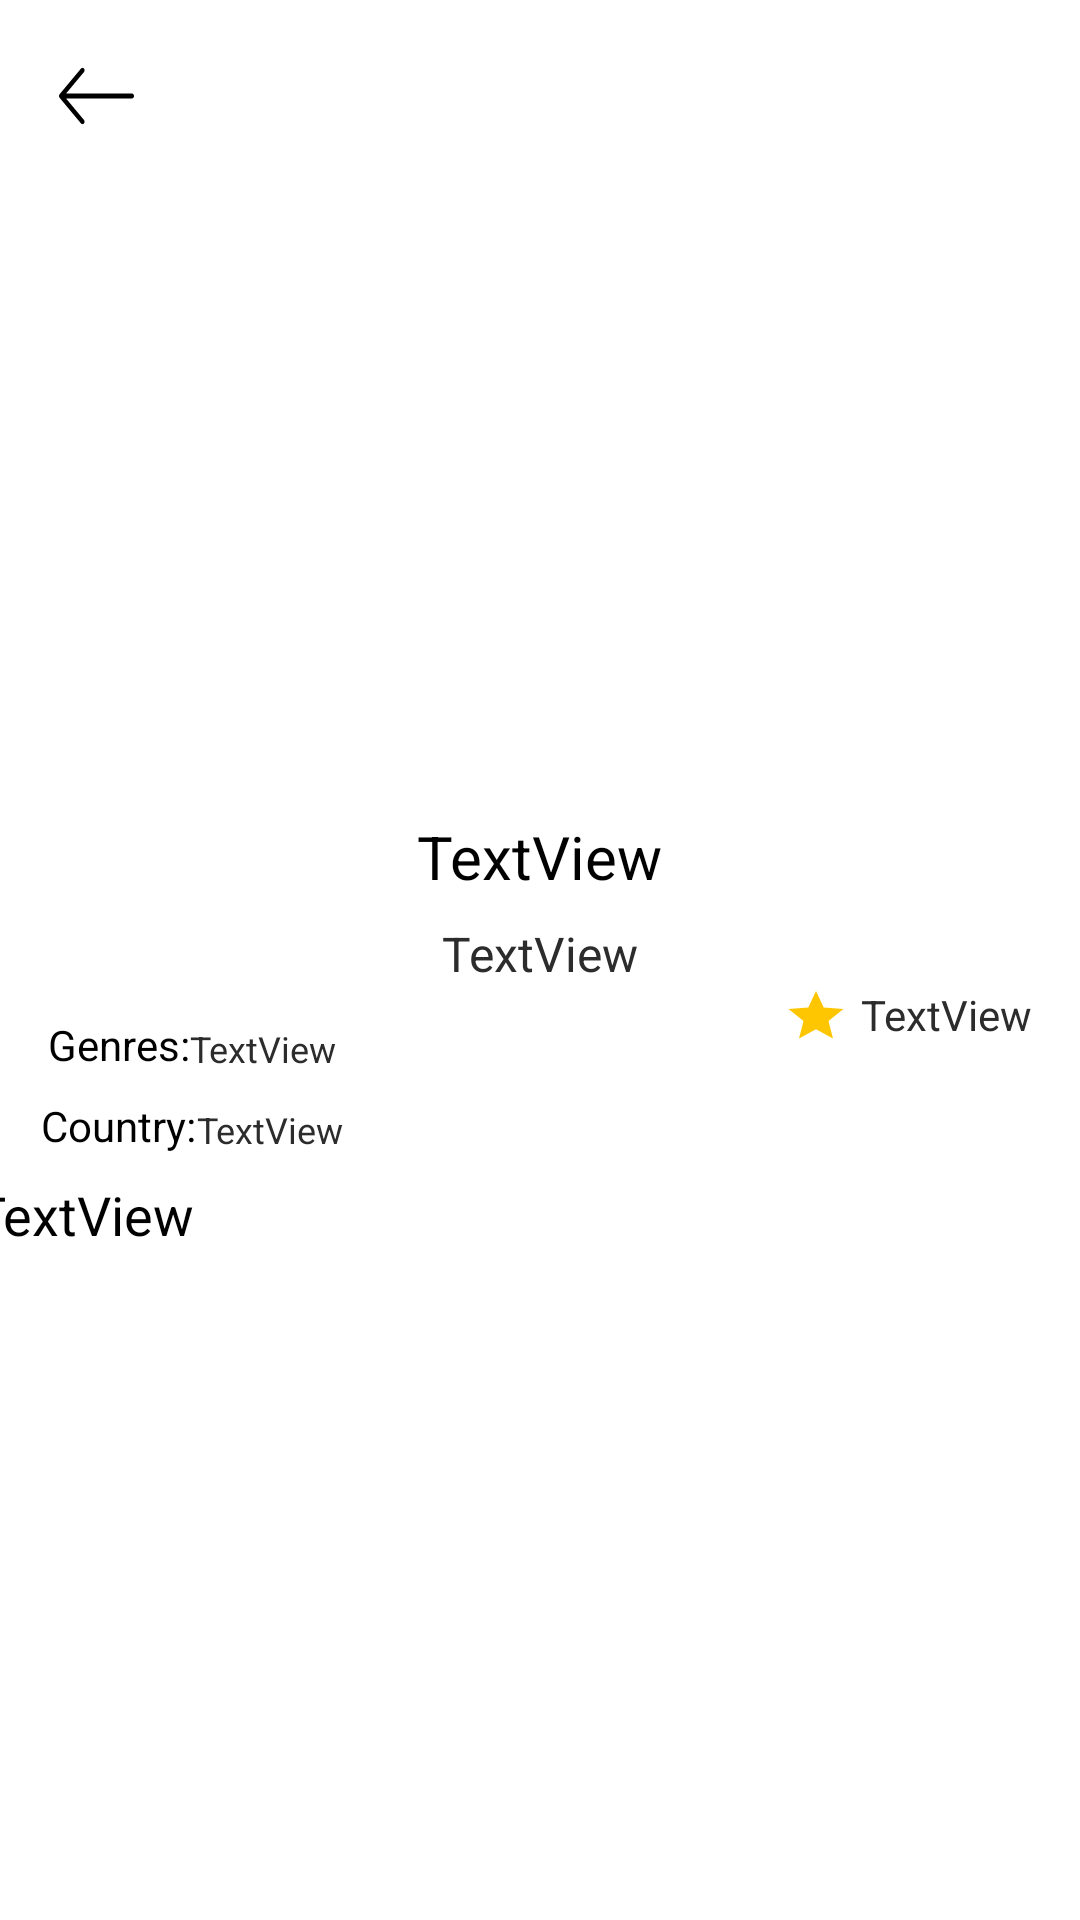

Where to tap for icons on this 1080px x 1920px app screen, as (x=x, y=y):
go back: (x=96, y=96)
star: (x=816, y=1015)
